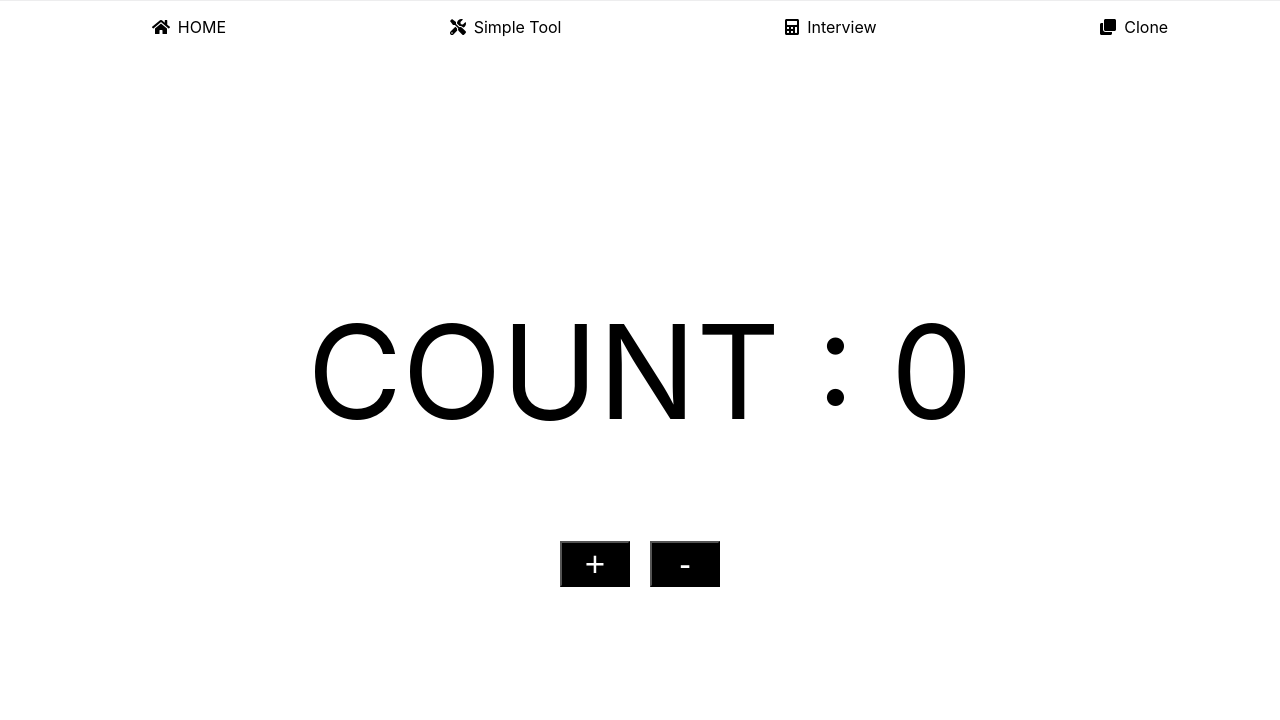
Test case: Home Page › clicking on button decrement counter display
Click the button with test id "counter-decrement": (685, 564) [650, 541, 720, 587]
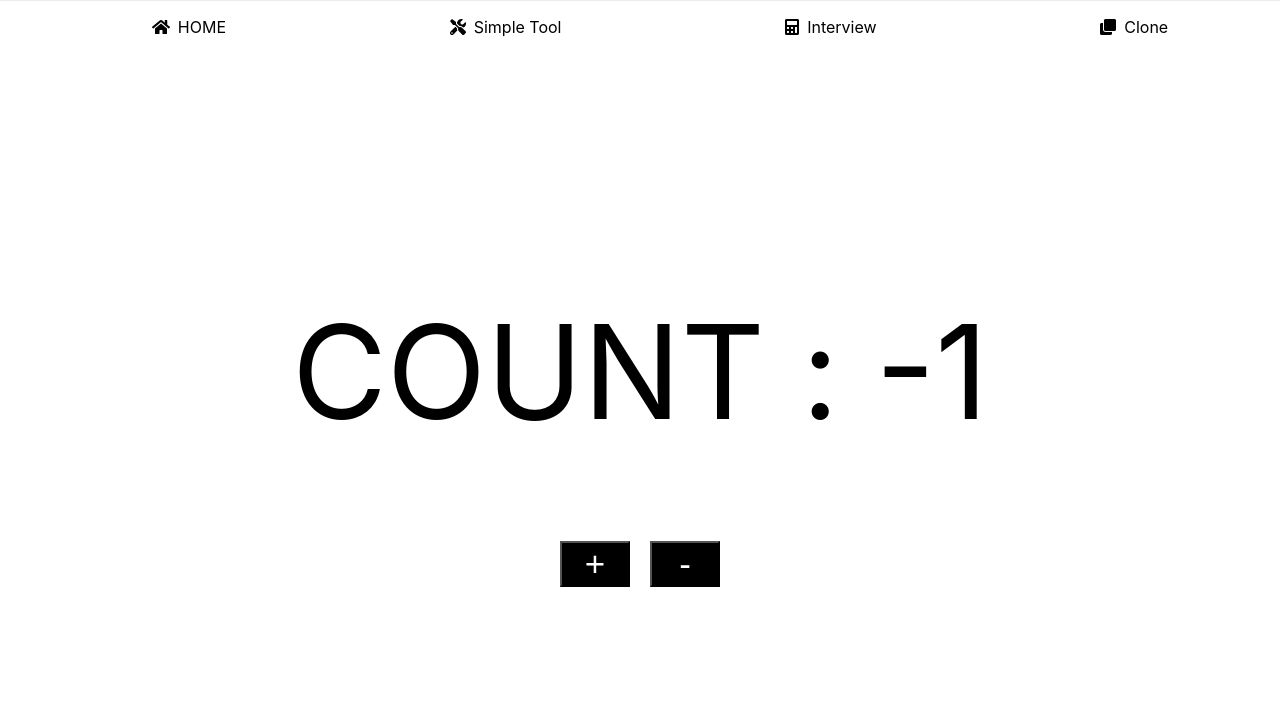
Now the text "-1" is shown, box [875, 293, 988, 450]
